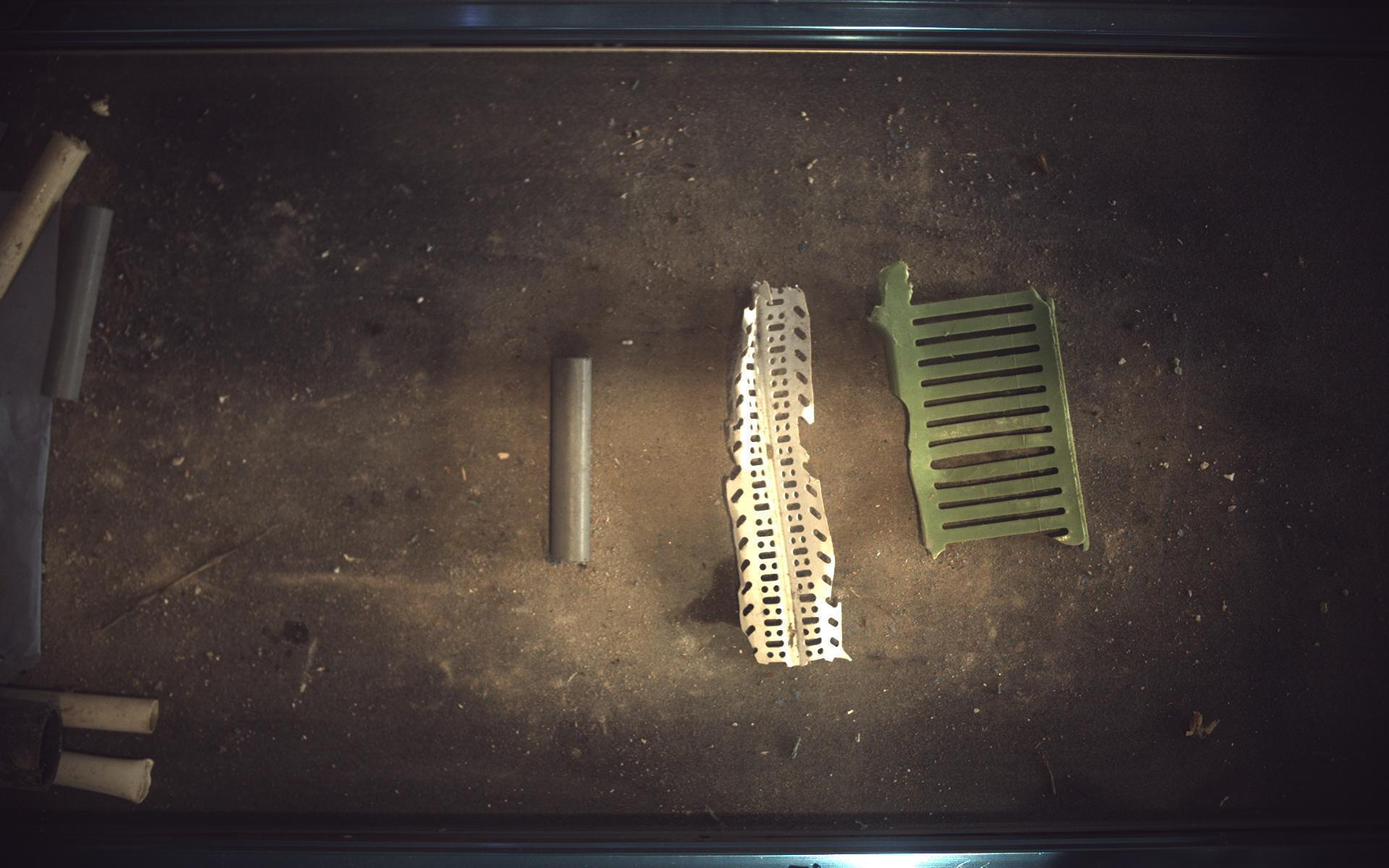pipes: (1, 130, 88, 298), (41, 204, 112, 401), (550, 357, 592, 563), (1, 689, 158, 736), (1, 699, 61, 792), (51, 752, 153, 805)
plastic: (872, 262, 1091, 557), (726, 282, 851, 668)
